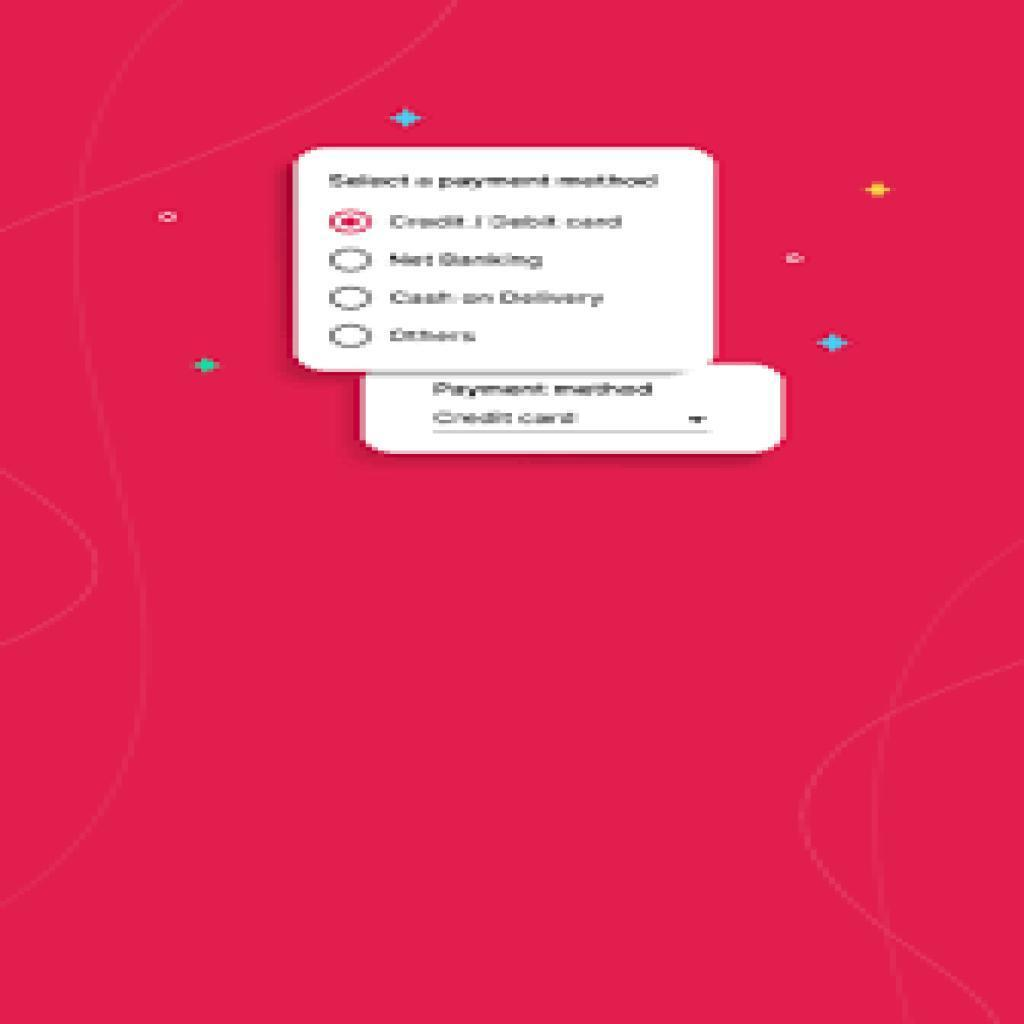radio: (327, 284, 375, 315), (331, 246, 376, 276), (330, 209, 375, 238), (330, 323, 376, 349)
